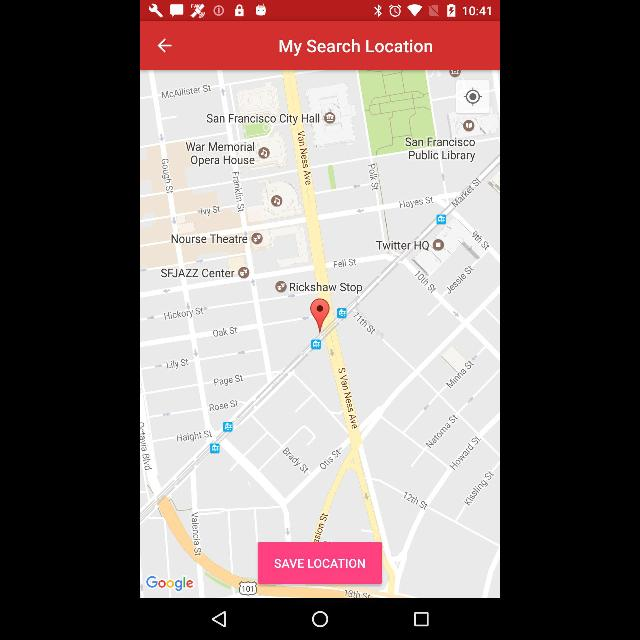icon: (310, 610, 330, 628), (464, 88, 482, 106), (210, 610, 228, 628), (156, 38, 174, 52), (414, 612, 428, 626)
map: (142, 70, 498, 598)
panel: (141, 598, 499, 640)
text: (274, 36, 436, 56), (274, 558, 366, 570)
textbutton: (258, 542, 382, 584)
toolbar: (141, 22, 499, 70)
uppertaskbar: (141, 2, 499, 22)
